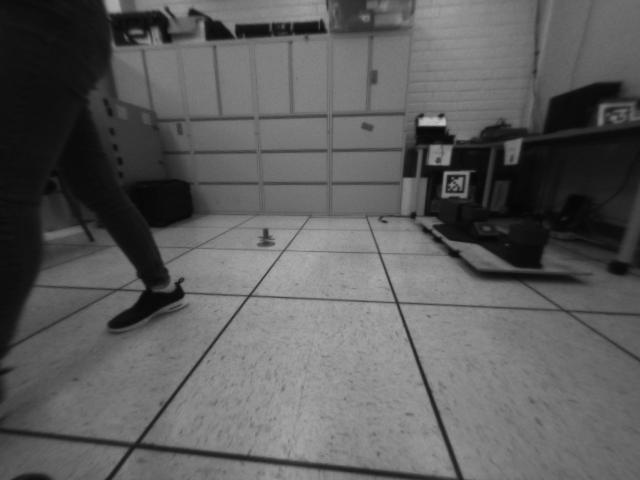X: (259, 228, 273, 240)
